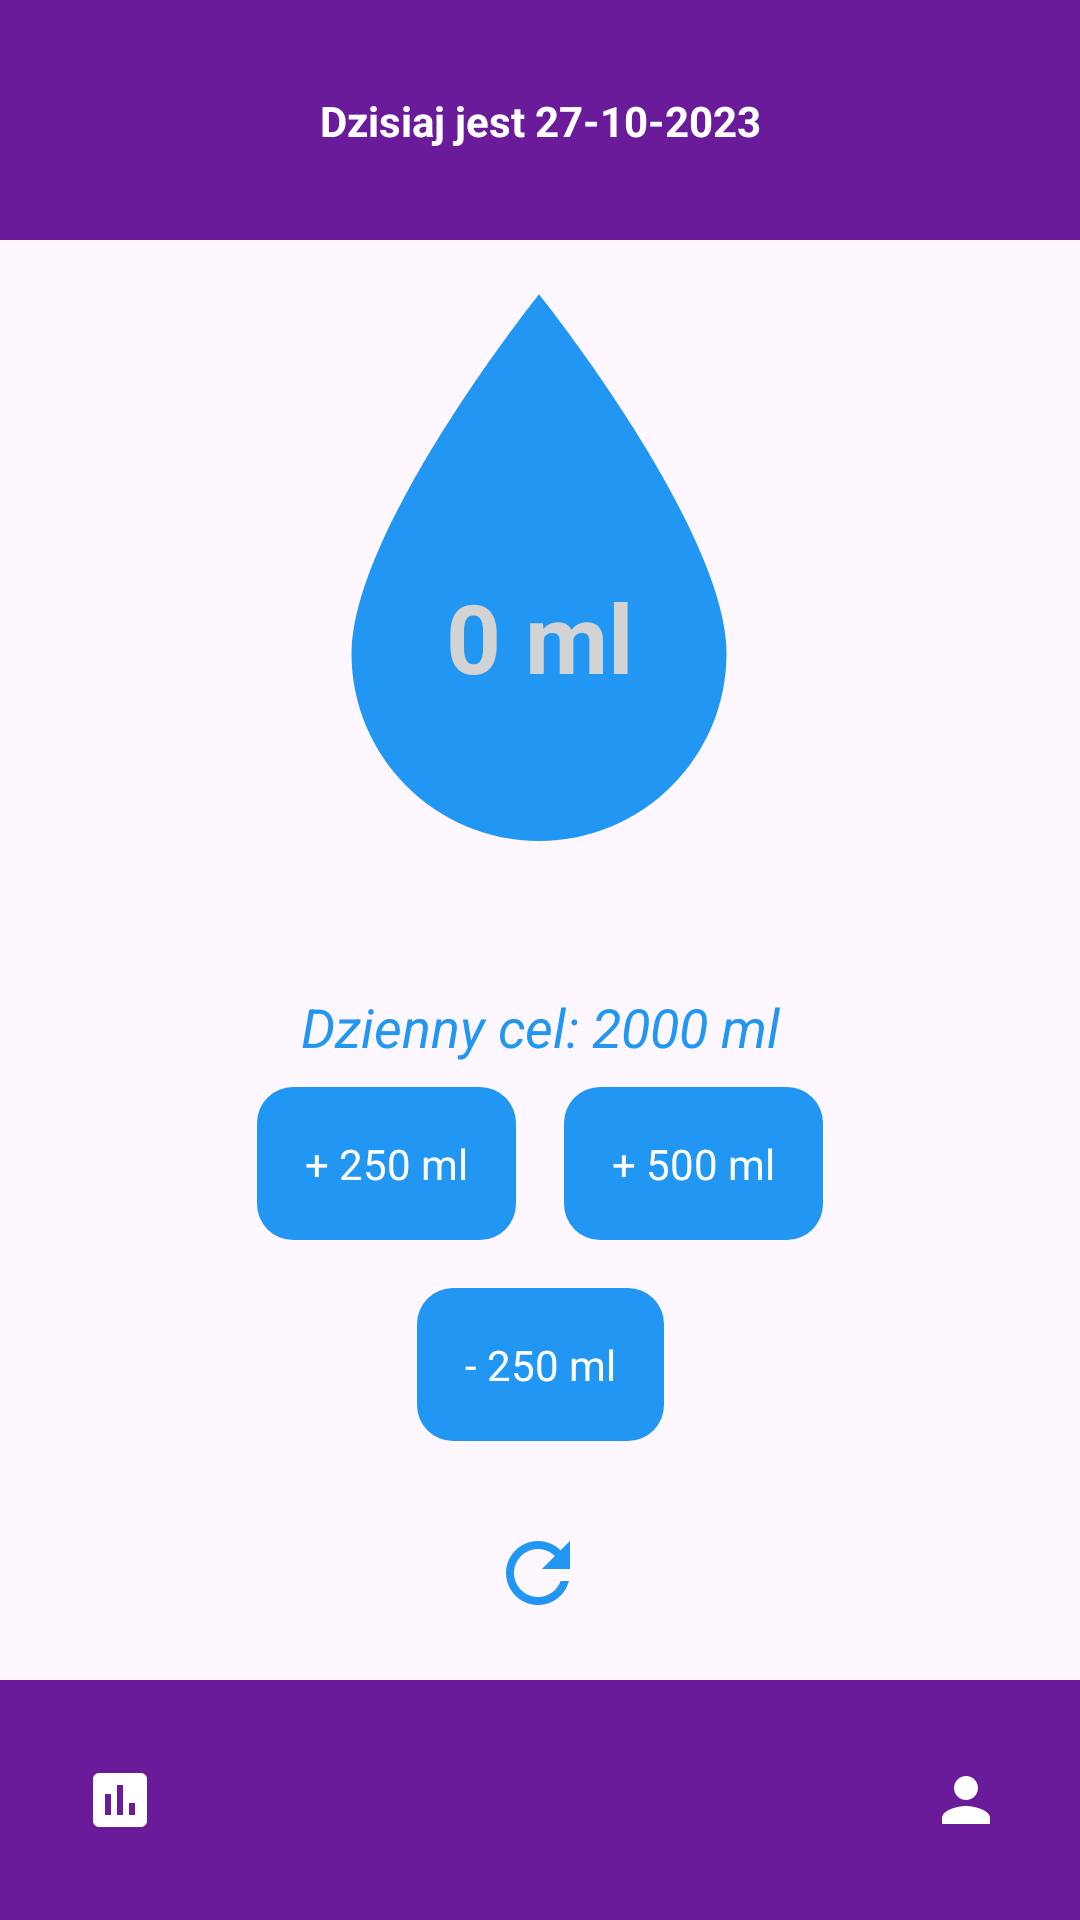

Screen size 1080×1920. Icon name, then its center in pixels as (x,y):
Reset water counter: (538,1573)
User profile: (966,1800)
View statistics: (120,1800)
